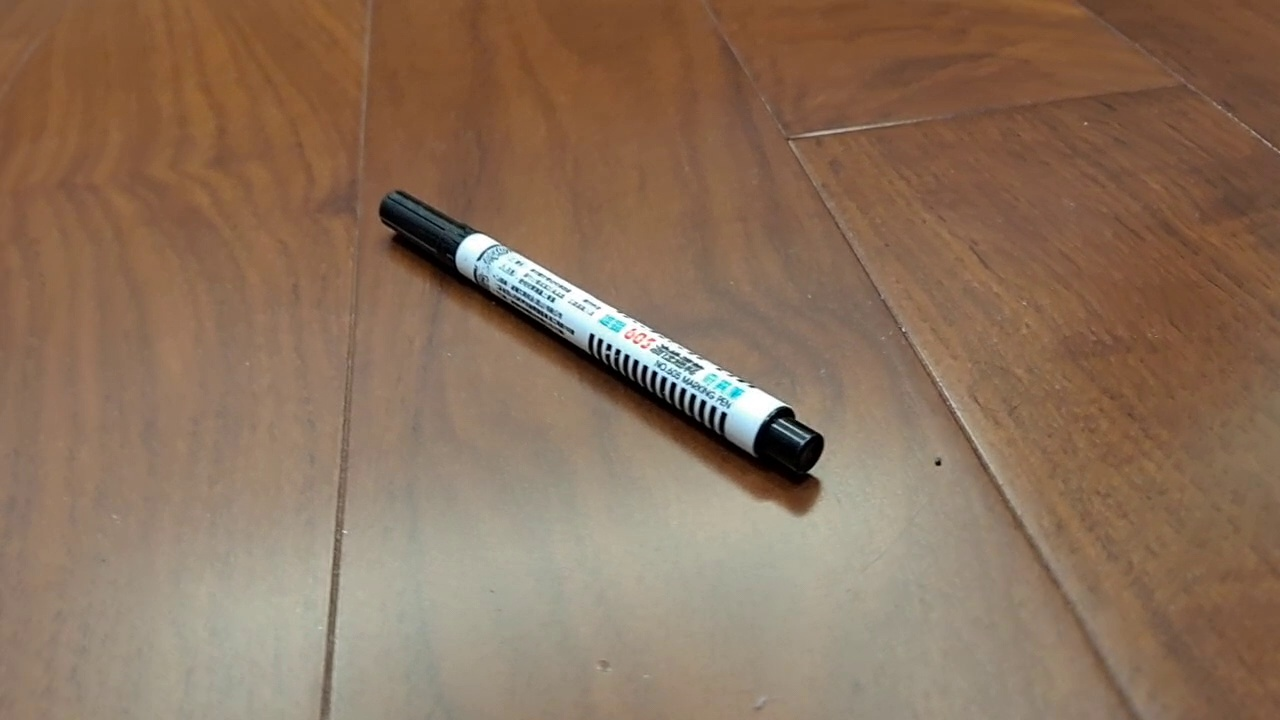pen: (378, 189, 825, 476)
